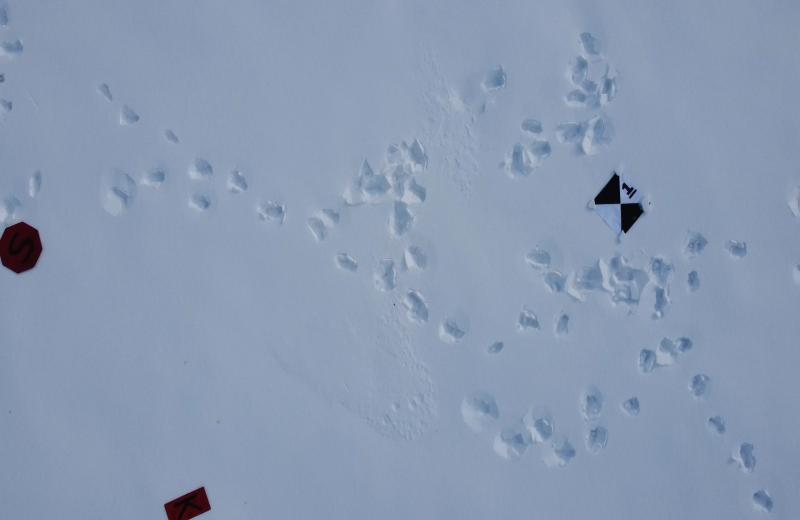Octagon: (0, 220, 46, 278)
Rectangle: (164, 477, 213, 520)
